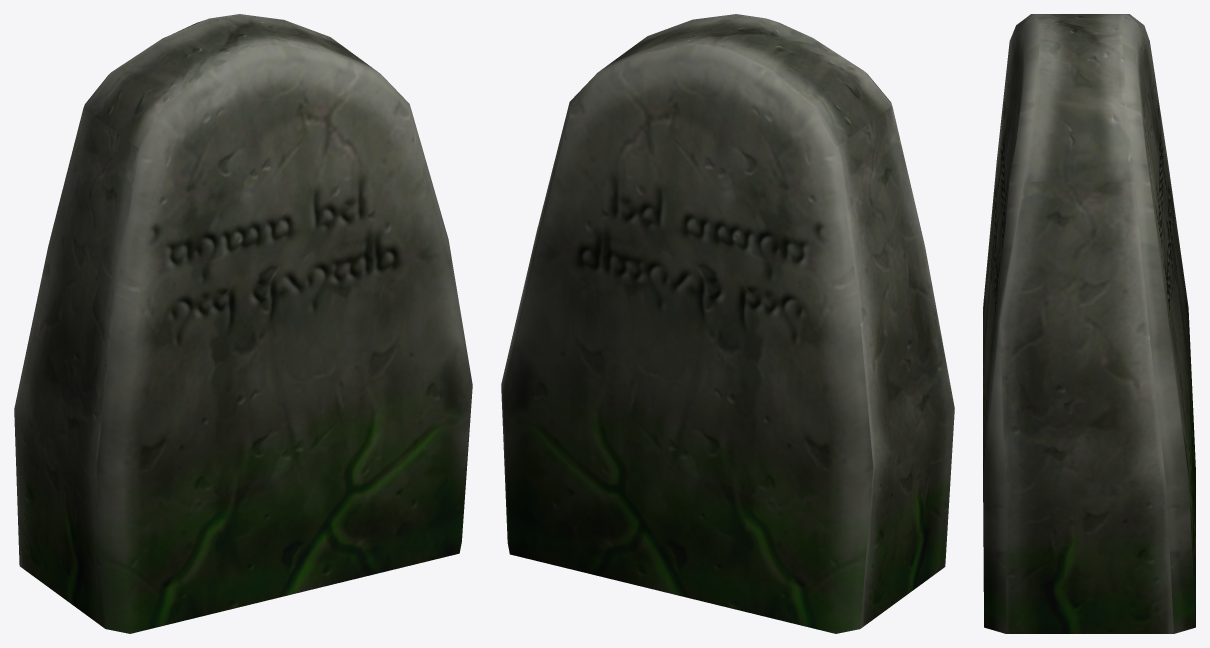
File: TombStone01.FBX
3 views of the same model, side by side, from view 1: azimuth 30°, elevation 25°; view 2: azimuth 150°, elevation 25°; view 3: azimuth 270°, elevation 25° (orthographic). The views are drawn at different scales.
Parts seen in each view (by area): view 1: TombStone01; view 2: TombStone01; view 3: TombStone01.
Part boxes in pixels (x1,y1,x2,y2): TombStone01: [14, 14, 472, 633]; TombStone01: [501, 14, 954, 633]; TombStone01: [983, 14, 1195, 633].
Bounding box in the file's own units: 12.75 × 17.07 × 6.39.
